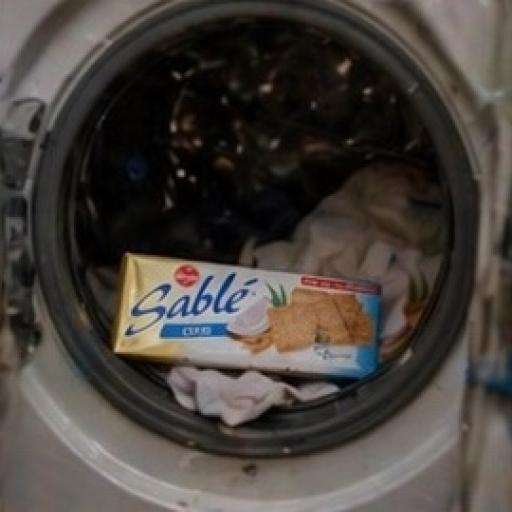sabl: (69, 187, 427, 431)
